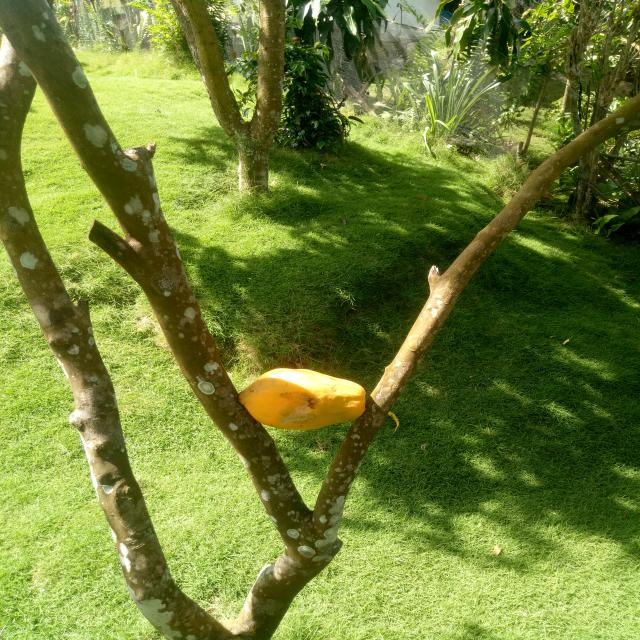Pepaya rippen: (230, 362, 374, 438)
